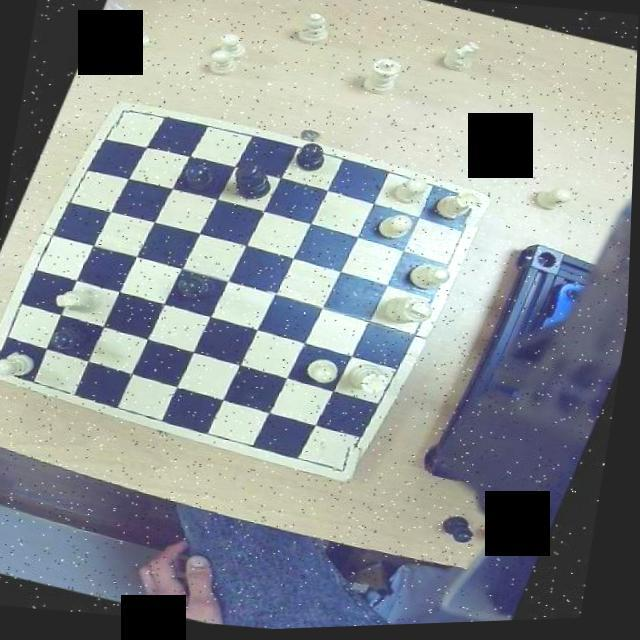chess-table-corners: (328, 443, 372, 485), (456, 193, 496, 233), (109, 100, 145, 132), (0, 345, 26, 382)
